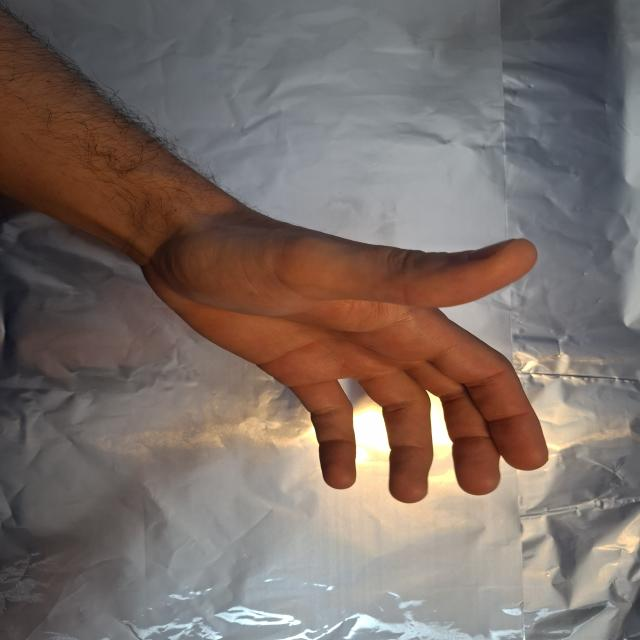glove_off: (130, 190, 552, 506)
